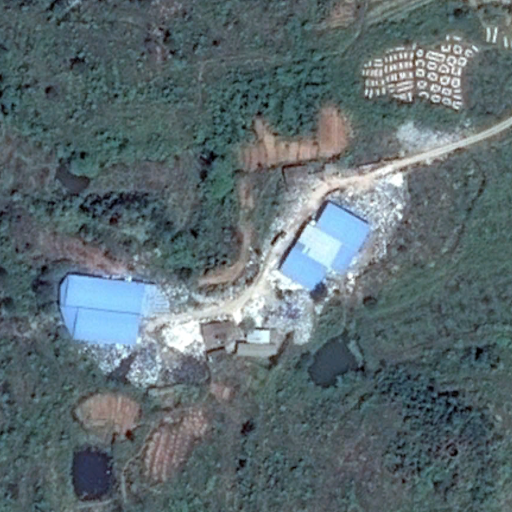msw: (89, 330, 163, 388), (341, 174, 409, 231), (247, 289, 312, 343)
